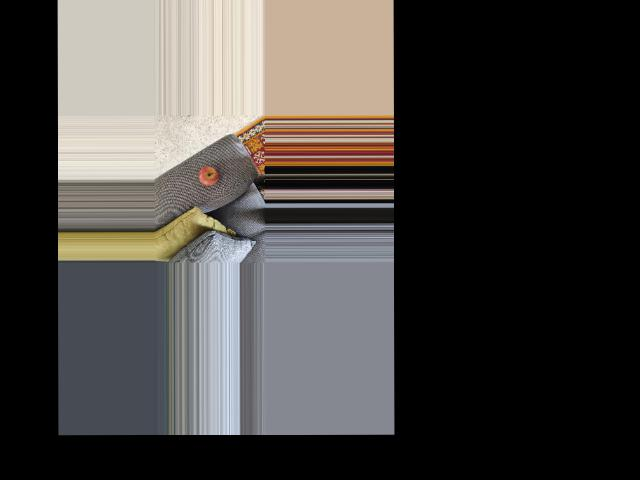apple: (198, 165, 220, 187)
